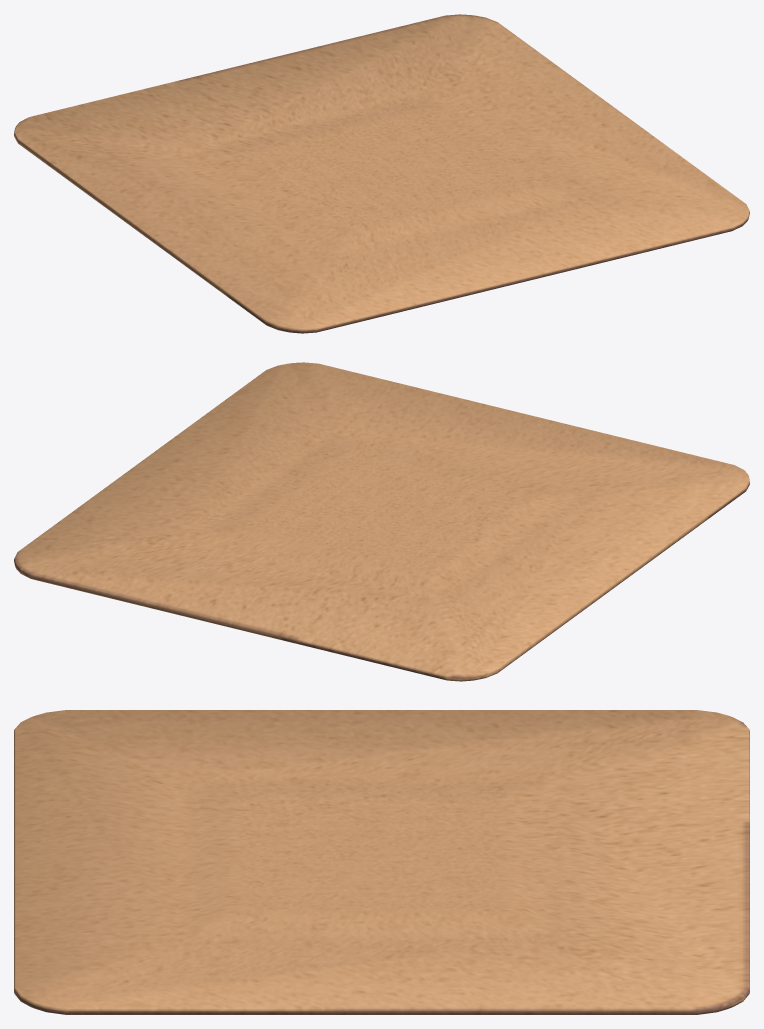
The model's file is Plaster_Small_Square.fbx.
3 renders of one model, top to bottom at view 1: azimuth 30°, elevation 25°; view 2: azimuth 150°, elevation 25°; view 3: azimuth 270°, elevation 25°, orthographic. The views are drawn at different scales.
Parts seen in each view (by area): view 1: Plaster_Small_Square; view 2: Plaster_Small_Square; view 3: Plaster_Small_Square.
Part boxes in pixels (box(x1,y1,x2,y2)): Plaster_Small_Square: box(14, 14, 749, 333); Plaster_Small_Square: box(14, 362, 749, 681); Plaster_Small_Square: box(14, 710, 749, 1014).
Size of the model in its own units: 3.13 by 0.1179 by 3.25.
Materials: 1 (1 with a texture image).
